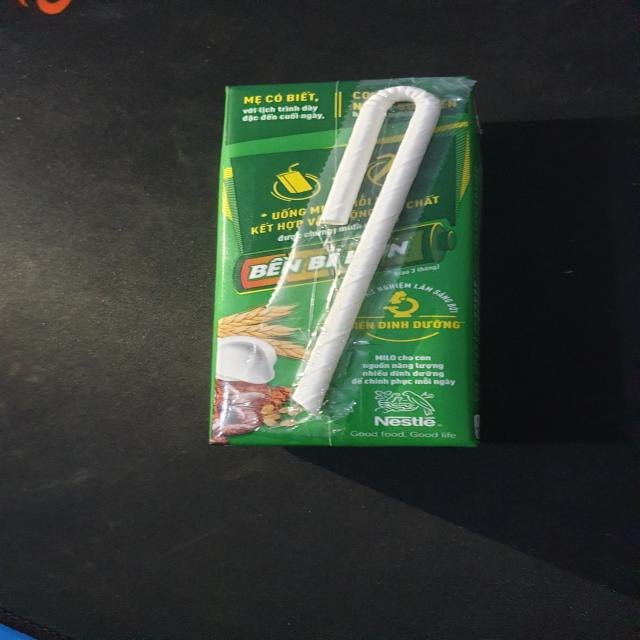Milo: (216, 79, 484, 452)
